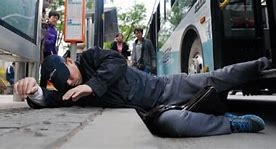falling: (0, 40, 276, 140)
